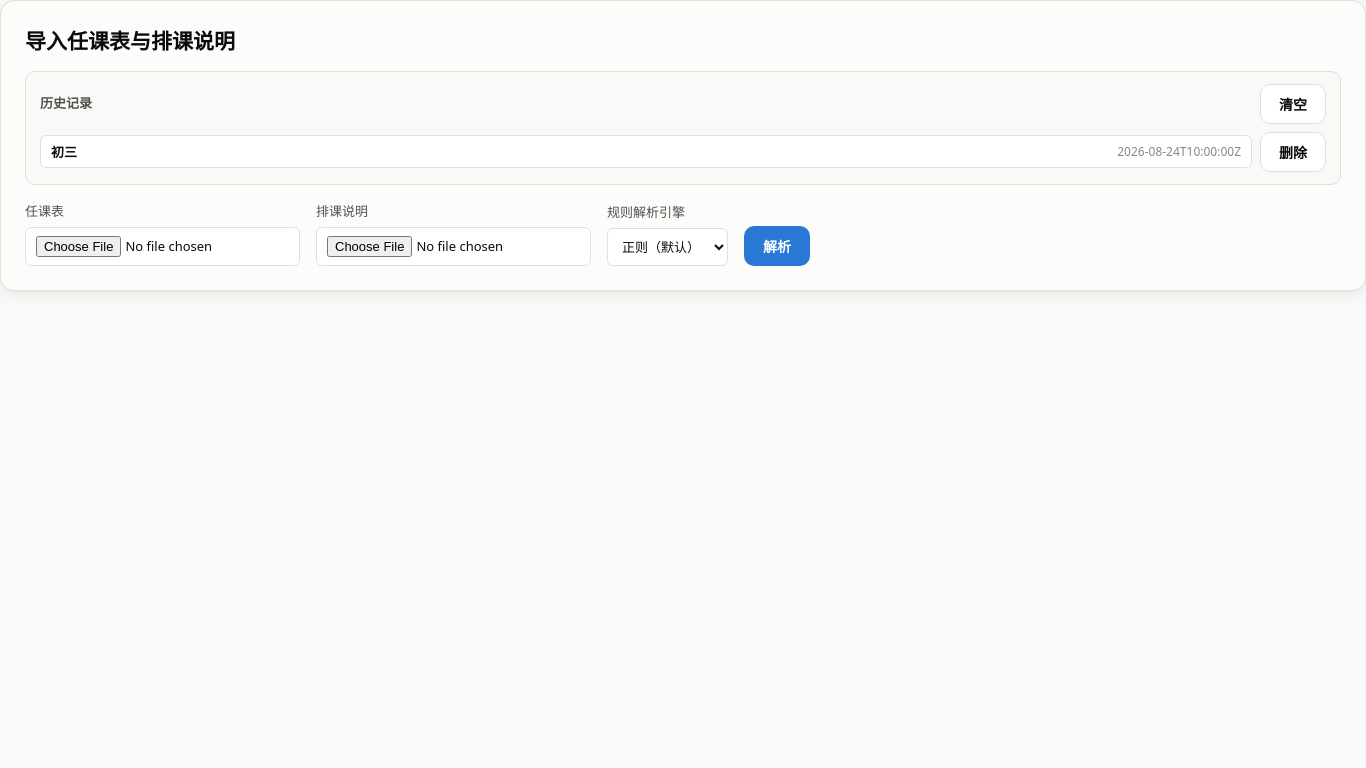
Test: ImportPanel › selecting a history row loads its preview via getImportDetail
The width and height of the screenshot is (1366, 768).
Click the button with test id "history-select".
click(1179, 152)  # box [40,135,1252,168]
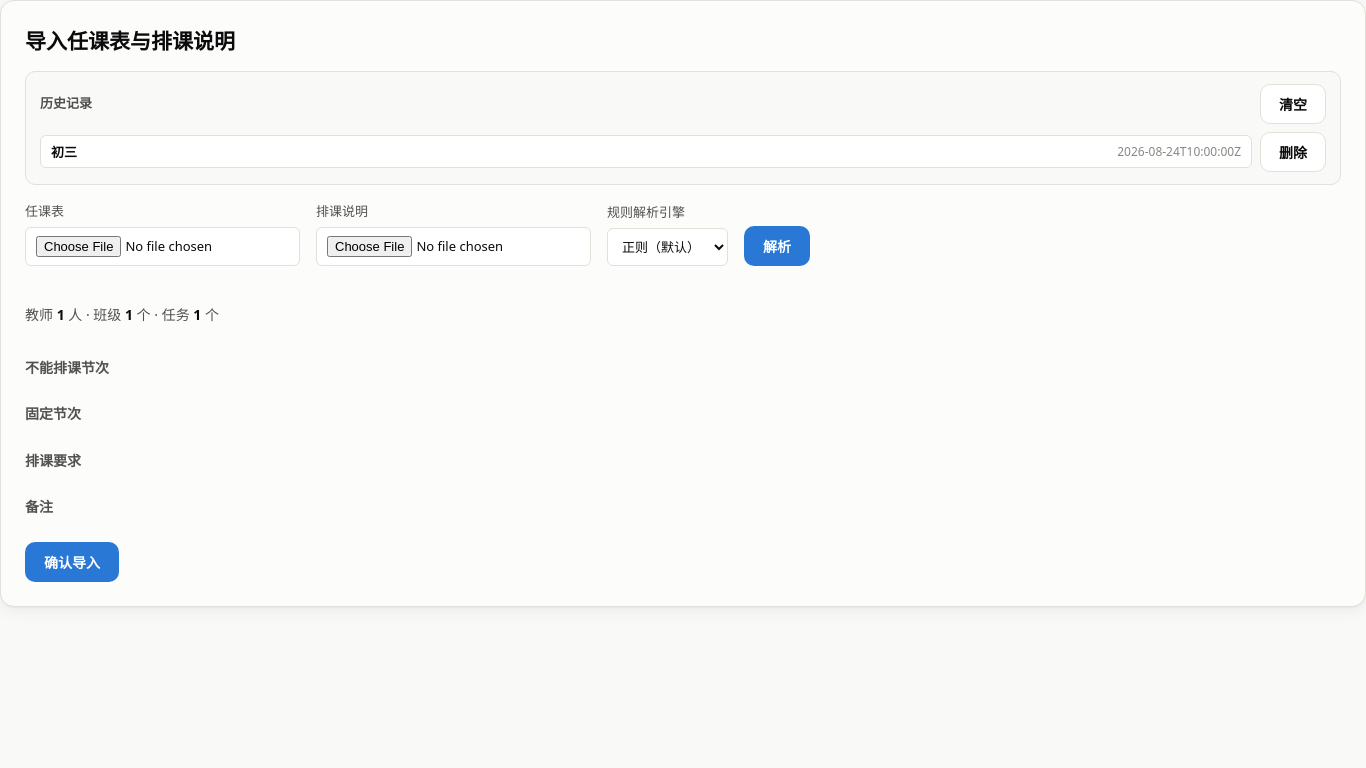
Check: the button with test id "confirm-button" is shown, box [25,542,119,582]
